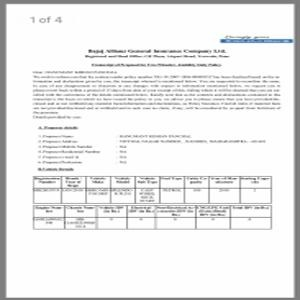table: (34, 175, 272, 205), (32, 204, 274, 232)
text: (29, 68, 282, 119), (36, 124, 266, 174), (83, 45, 231, 71)
